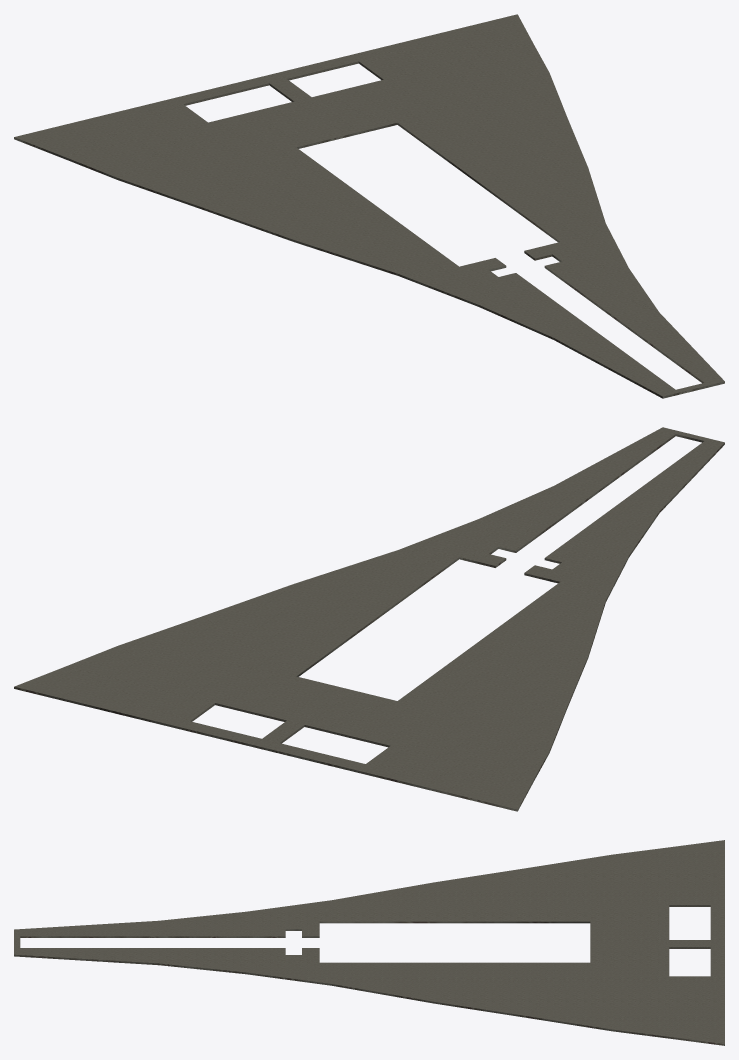
The model's file is floorPlan.fbx.
The picture shows the model from 3 angles, top to bottom: view 1: azimuth 30°, elevation 25°; view 2: azimuth 150°, elevation 25°; view 3: azimuth 270°, elevation 25°; orthographic projection. The views are drawn at different scales.
Parts seen in each view (by area): view 1: 2_floorPlan; view 2: 2_floorPlan; view 3: 2_floorPlan.
Part boxes in pixels (<box>): 2_floorPlan: <box>14,14,724,398</box>; 2_floorPlan: <box>14,427,724,811</box>; 2_floorPlan: <box>14,840,724,1045</box>.
Bounding box in the file's own units: 2460 × 10 × 3621.
